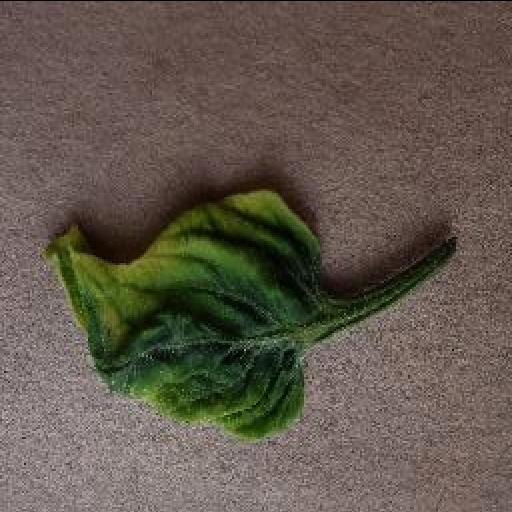disease_tomato: (40, 185, 326, 441)
